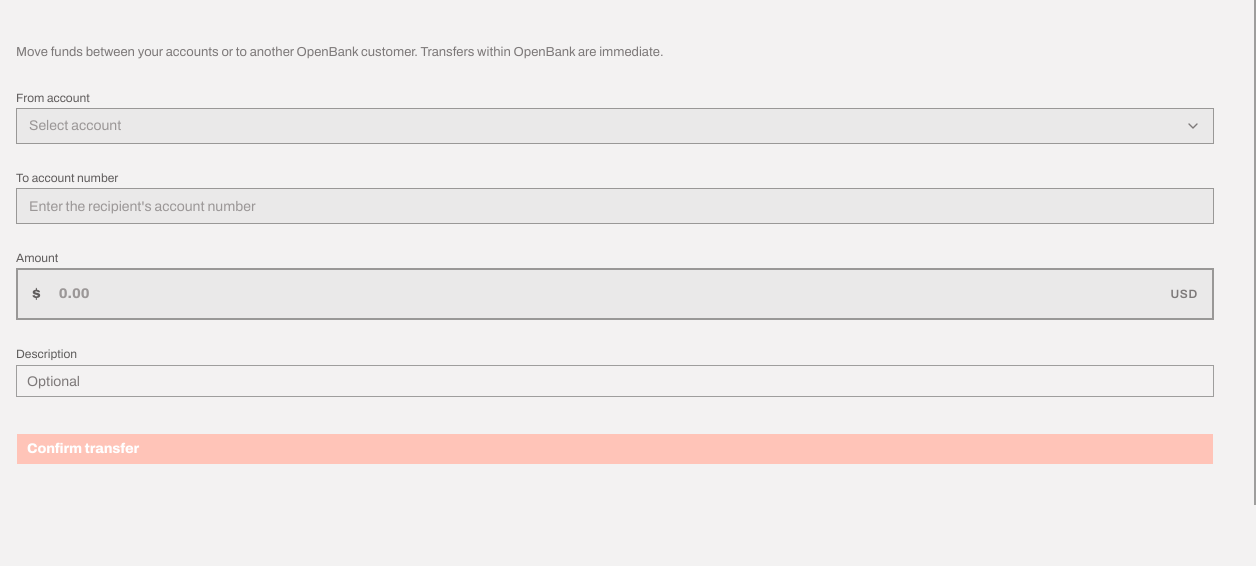
TransferPanel integration › a lookup failure shows the error message, not No account found
Type "999999" into the field with placeholder "Enter the recipient's account number" at (615, 206), box [16,188,1214,224]
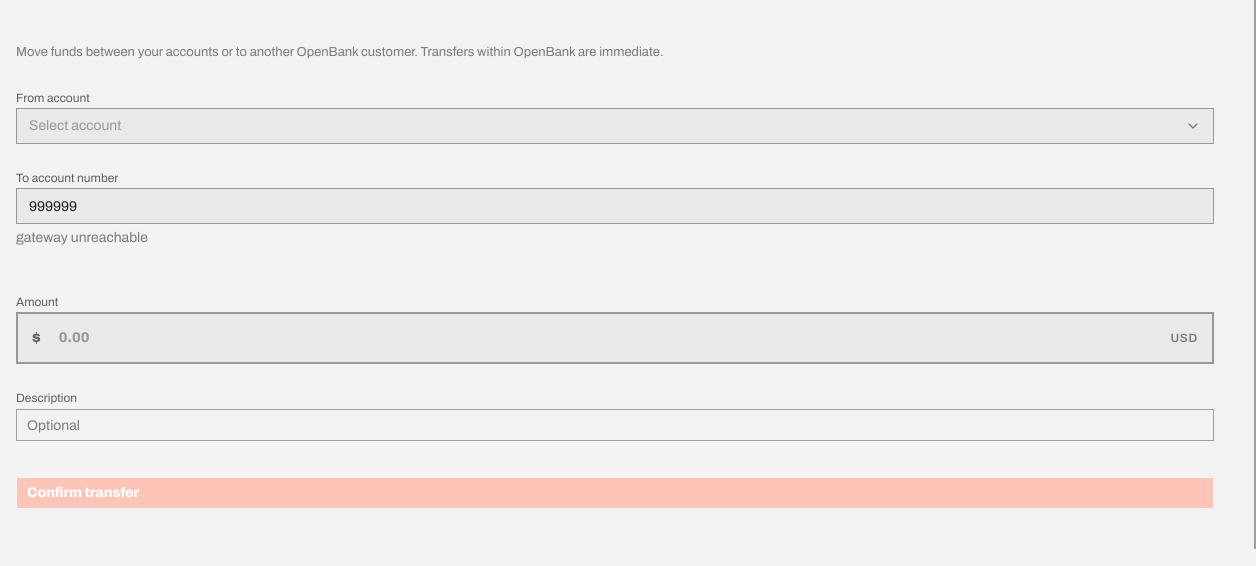
Expected: the text "gateway unreachable" is shown, [16,230,148,245]
